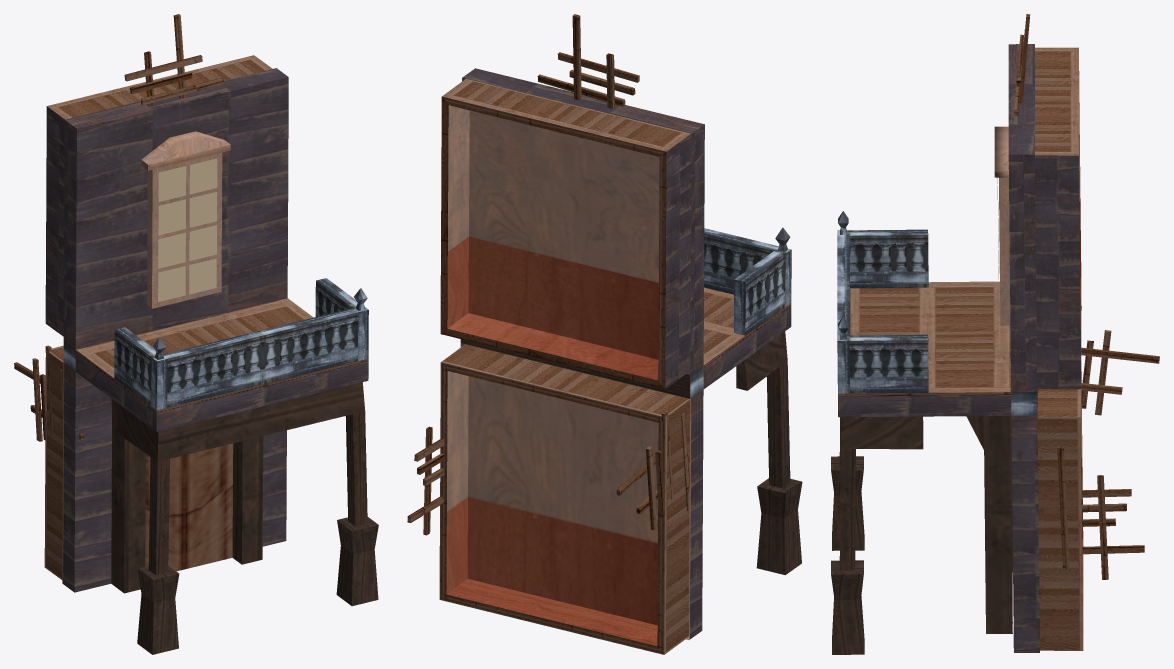
Rendered from Spooky_Tower_Floating_Cabin_03_Art.fbx.
3 views of the same model, side by side, from view 1: azimuth 30°, elevation 25°; view 2: azimuth 150°, elevation 25°; view 3: azimuth 270°, elevation 25° (orthographic). The views are drawn at different scales.
Parts seen in each view (by area): view 1: Spooky_Tower_Floating_Cabin_03_Art; view 2: Spooky_Tower_Floating_Cabin_03_Art; view 3: Spooky_Tower_Floating_Cabin_03_Art.
Part boxes in pixels (bbox=[...]): Spooky_Tower_Floating_Cabin_03_Art: bbox=[14, 14, 378, 654]; Spooky_Tower_Floating_Cabin_03_Art: bbox=[407, 14, 802, 654]; Spooky_Tower_Floating_Cabin_03_Art: bbox=[831, 14, 1159, 654].
Size of the model in its own units: 293 by 678 by 346.
